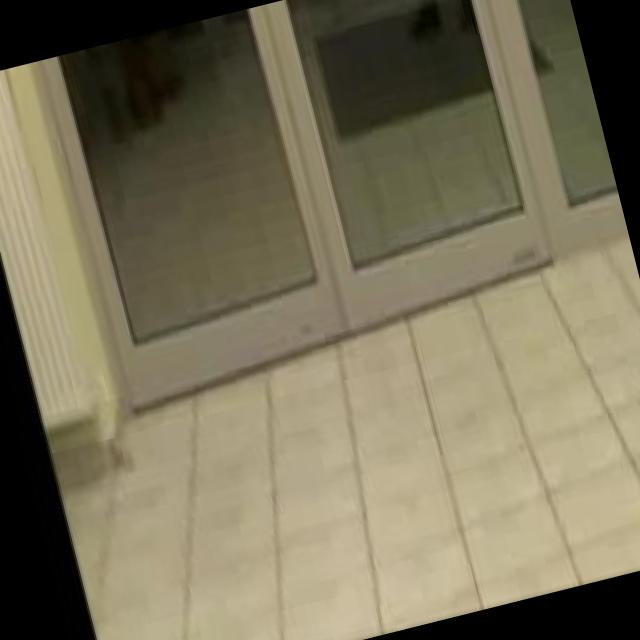Guns: (593, 256, 640, 441)
